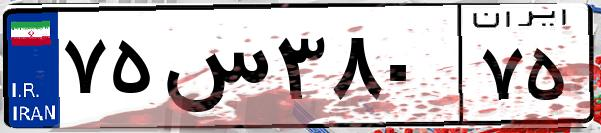0: (385, 28, 445, 110)
3: (270, 28, 330, 110)
5: (525, 38, 570, 115), (110, 28, 158, 98)
7: (57, 26, 110, 100), (475, 38, 525, 113)
8: (330, 28, 385, 110)
س: (158, 20, 270, 120)
